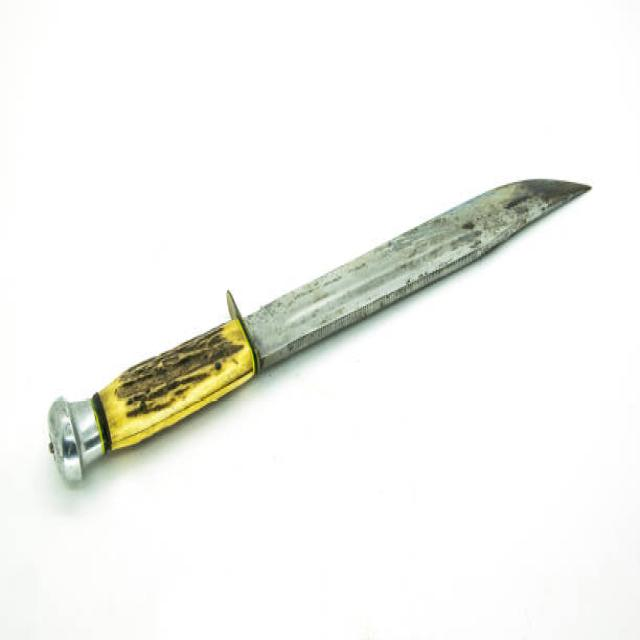knife: (21, 169, 595, 486)
